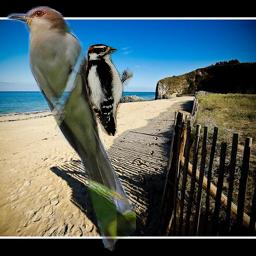Cuckoo: (7, 6, 136, 251)
Woodpecker: (86, 44, 133, 136)
